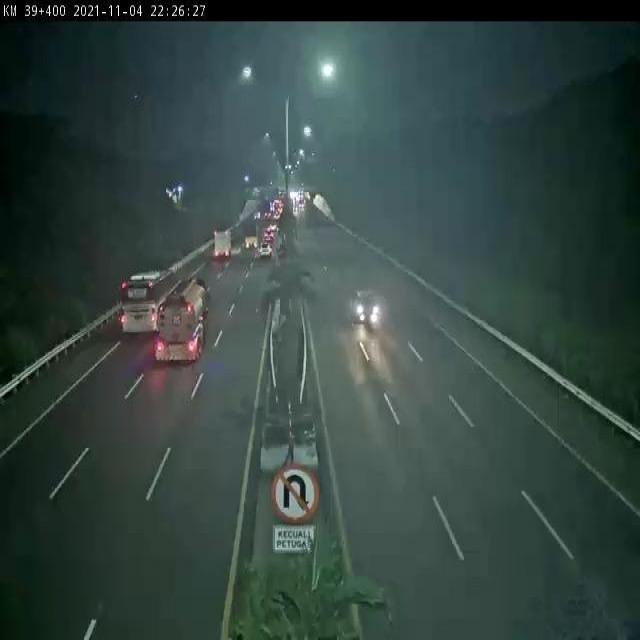bus-l-: (119, 268, 161, 344)
car: (344, 281, 386, 332), (261, 228, 277, 247), (259, 240, 273, 261)
truck-l-: (210, 221, 234, 264)
truck-xl-: (154, 275, 208, 365)
